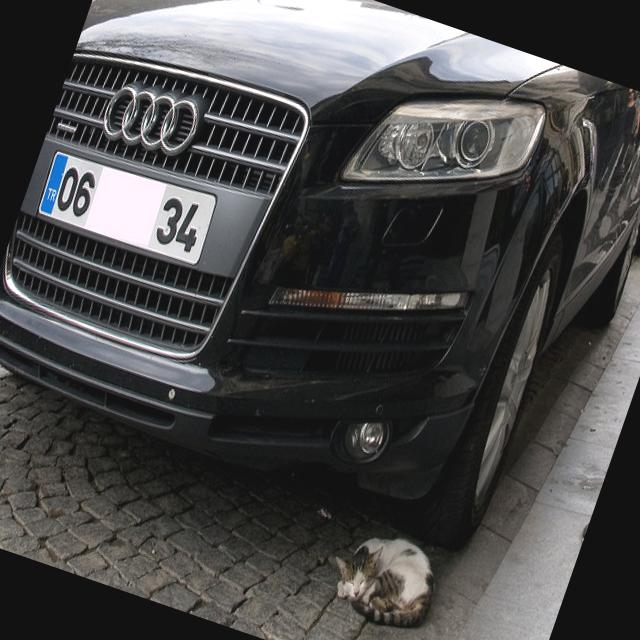Vehicle: (0, 0, 640, 579), (619, 103, 640, 259), (94, 0, 183, 17)
